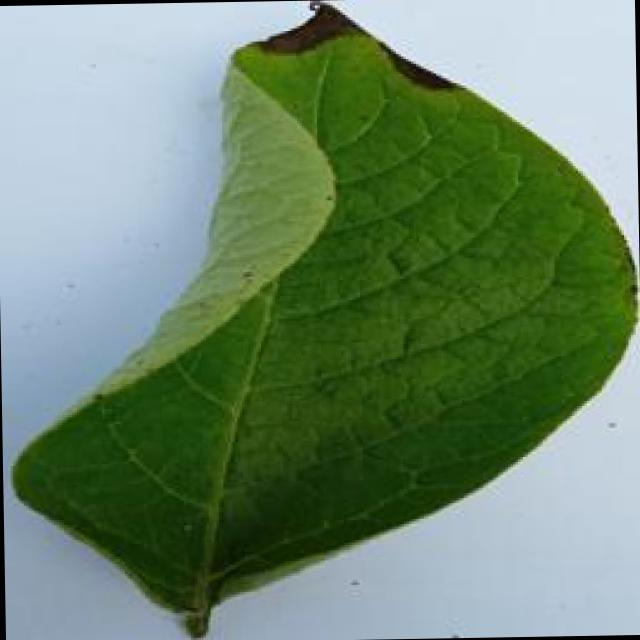Potato_Late_Blight: (6, 0, 631, 639)
